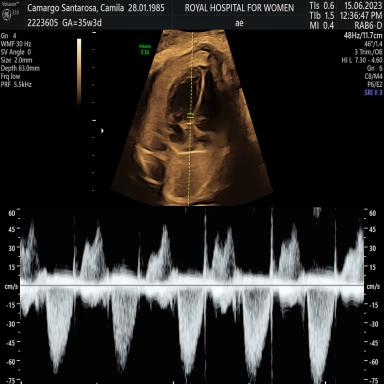Ultrasound-Waves: (28, 206, 360, 384)
